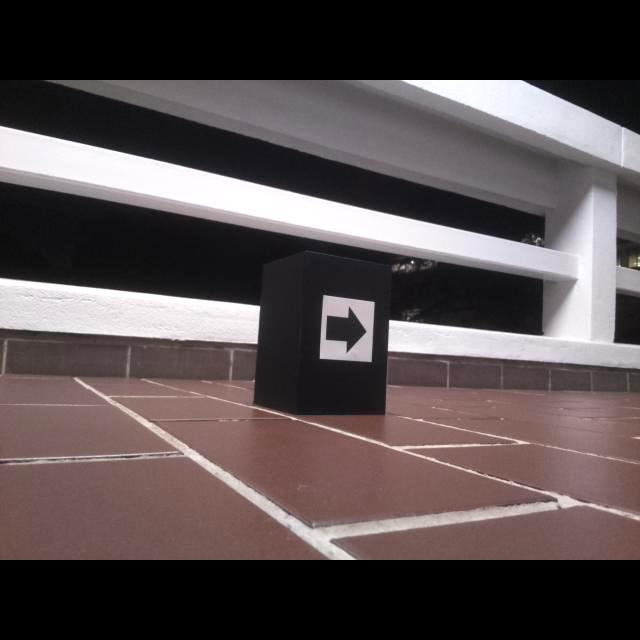RIGHT: (326, 308, 367, 352)
